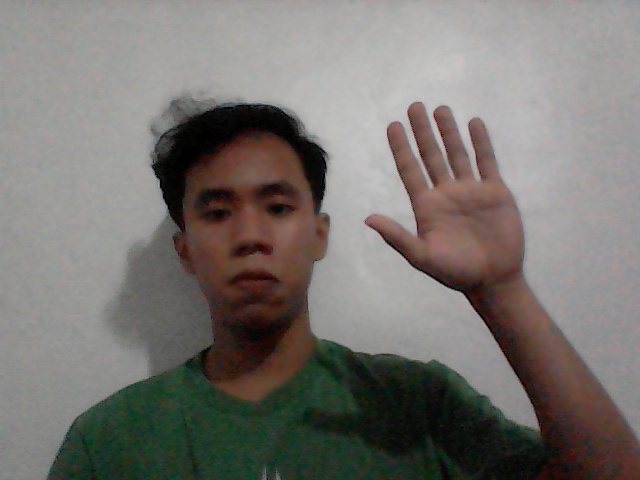Hello: (343, 90, 581, 331)
